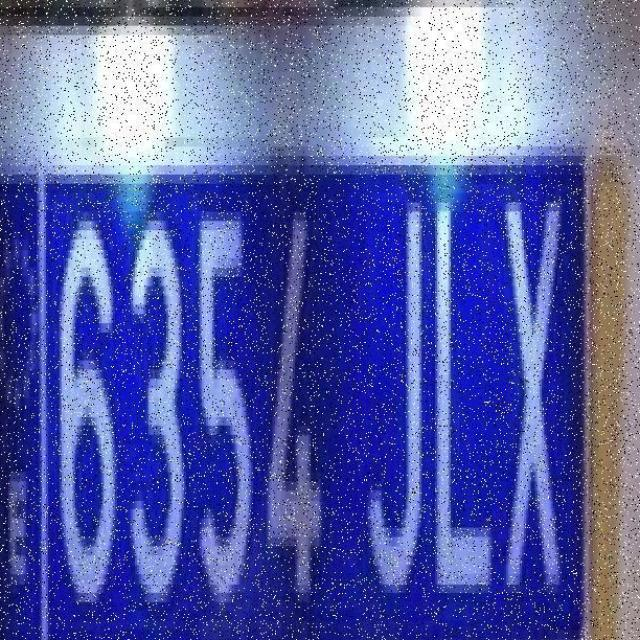license-plate: (36, 166, 604, 640)
